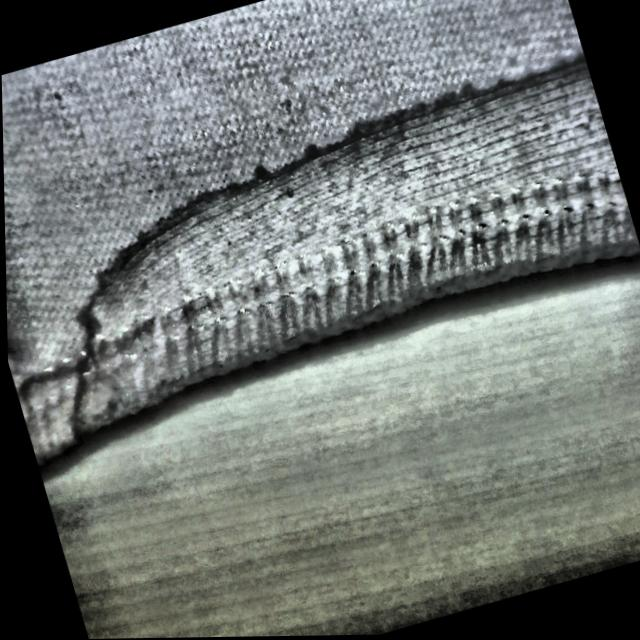seam: (33, 0, 640, 418)
